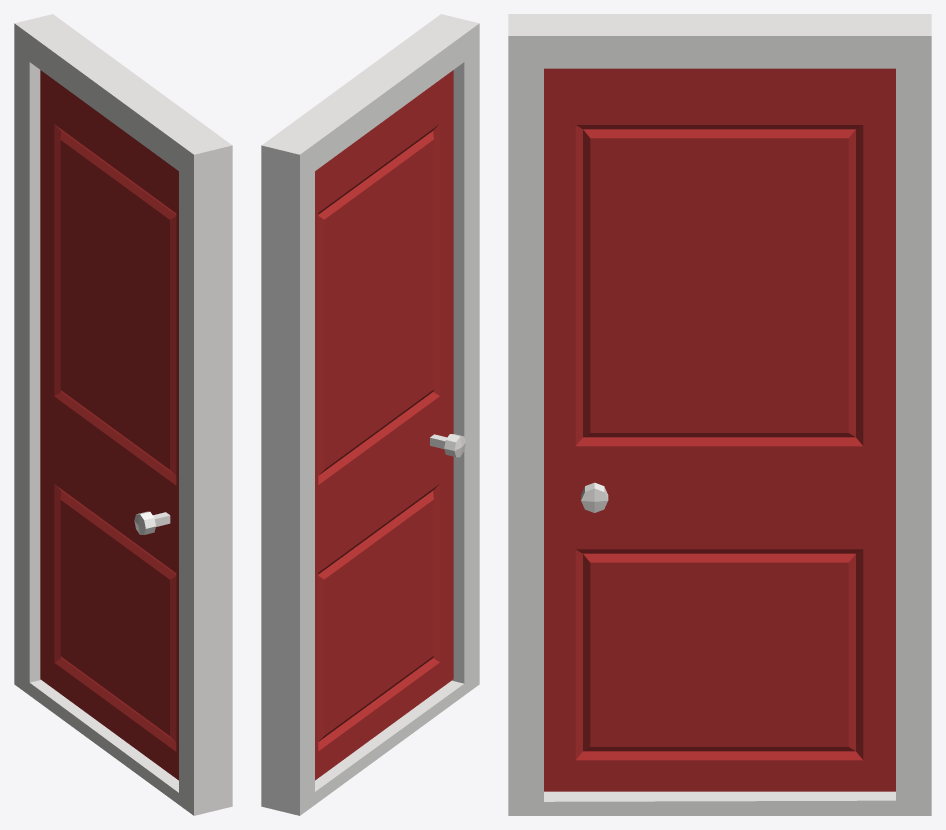
The model's file is Door_2.fbx.
3 views of the same model, side by side, from view 1: azimuth 30°, elevation 25°; view 2: azimuth 150°, elevation 25°; view 3: azimuth 270°, elevation 25° (orthographic). The views are drawn at different scales.
Visible parts, largest first — view 1: Door_2; view 2: Door_2; view 3: Door_2.
Part boxes in pixels (bbox=[...]): Door_2: bbox=[14, 14, 232, 815]; Door_2: bbox=[261, 14, 479, 815]; Door_2: bbox=[508, 14, 931, 815].
Bounding box in the file's own units: 33.02 × 164 × 334.
